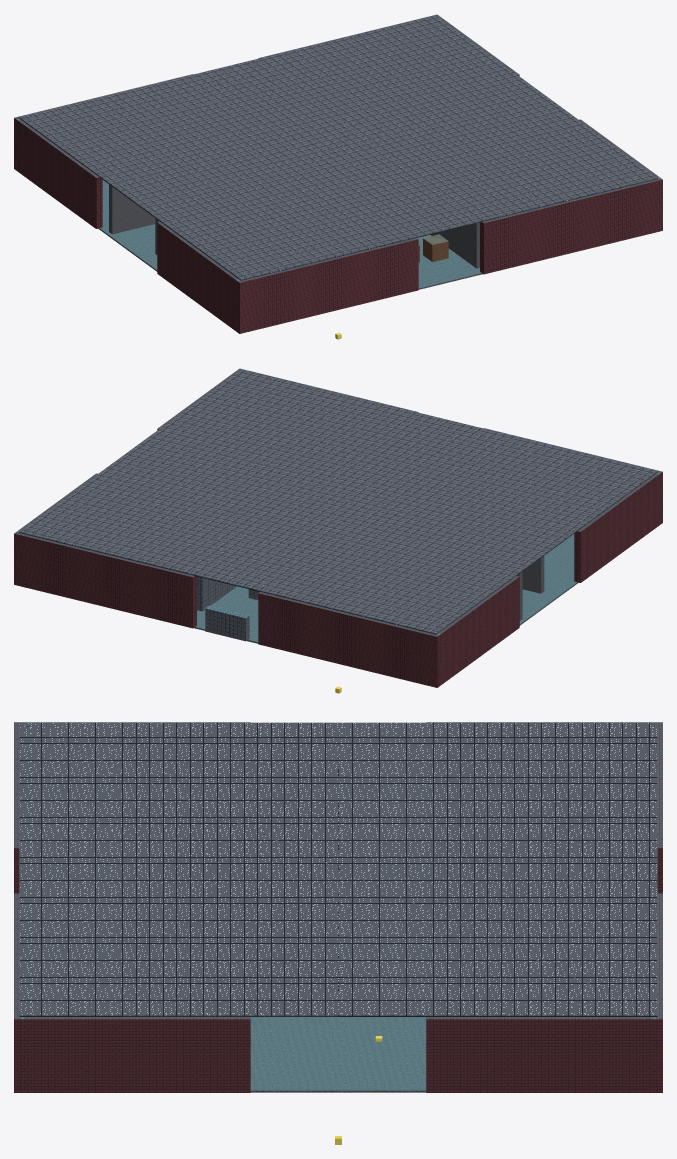
Rendered from dungeon.glb.
3 renders of one model, top to bottom at view 1: azimuth 30°, elevation 25°; view 2: azimuth 150°, elevation 25°; view 3: azimuth 270°, elevation 25°, orthographic. The views are drawn at different scales.
Parts seen in each view (by area): view 1: ART_dungeon_ceiling, ART_dungeon_north_wall_a, ART_dungeon_north_wall_b, ART_dungeon_west_wall_b, ART_dungeon_west_wall_a, ART_dungeon_floor, WALKABLE_dungeon_floor, ART_dungeon_office_divider_short, ART_dungeon_corridor_wall_west, ART_dungeon_crate_0_9_8_8; view 2: ART_dungeon_ceiling, ART_dungeon_south_wall_a, ART_dungeon_south_wall_b, ART_dungeon_west_wall_a, ART_dungeon_west_wall_b, ART_dungeon_floor, WALKABLE_dungeon_floor, ART_dungeon_loading_bay_lip, ART_dungeon_storage_left_return, ART_dungeon_office_divider_north; view 3: ART_dungeon_ceiling, ART_dungeon_east_wall_b, ART_dungeon_east_wall_a, ART_dungeon_floor, WALKABLE_dungeon_floor, ART_dungeon_north_wall_b, ART_dungeon_south_wall_b, ART_dungeon_north_wall_a, ART_dungeon_south_wall_a, WALKABLE_dungeon_south_wall_b, WALKABLE_dungeon_north_wall_b, WALKABLE_dungeon_north_wall_a (+1 smaller).
Part boxes in pixels (<box>): ART_dungeon_ceiling: <box>19,15,657,280</box>; ART_dungeon_north_wall_a: <box>236,238,418,333</box>; ART_dungeon_north_wall_b: <box>480,178,662,274</box>; ART_dungeon_west_wall_b: <box>16,120,102,228</box>; ART_dungeon_west_wall_a: <box>157,222,238,330</box>; ART_dungeon_floor: <box>98,180,482,289</box>; WALKABLE_dungeon_floor: <box>100,180,480,287</box>; ART_dungeon_office_divider_short: <box>109,184,155,234</box>; ART_dungeon_corridor_wall_west: <box>430,222,479,268</box>; ART_dungeon_crate_0_9_8_8: <box>423,234,448,262</box>; ART_dungeon_ceiling: <box>19,369,657,634</box>; ART_dungeon_south_wall_a: <box>258,592,440,687</box>; ART_dungeon_south_wall_b: <box>14,532,196,628</box>; ART_dungeon_west_wall_a: <box>574,474,659,582</box>; ART_dungeon_west_wall_b: <box>437,576,519,684</box>; ART_dungeon_floor: <box>194,534,578,643</box>; WALKABLE_dungeon_floor: <box>196,534,576,641</box>; ART_dungeon_loading_bay_lip: <box>205,605,249,641</box>; ART_dungeon_storage_left_return: <box>197,576,236,611</box>; ART_dungeon_office_divider_north: <box>522,556,544,593</box>; ART_dungeon_ceiling: <box>19,722,657,1016</box>; ART_dungeon_east_wall_b: <box>426,1017,656,1092</box>; ART_dungeon_east_wall_a: <box>20,1017,250,1092</box>; ART_dungeon_floor: <box>250,1017,426,1092</box>; WALKABLE_dungeon_floor: <box>251,1017,425,1090</box>; ART_dungeon_north_wall_b: <box>14,893,24,1092</box>; ART_dungeon_south_wall_b: <box>652,893,662,1092</box>; ART_dungeon_north_wall_a: <box>14,722,23,893</box>; ART_dungeon_south_wall_a: <box>656,722,662,893</box>; WALKABLE_dungeon_south_wall_b: <box>652,893,662,1018</box>; WALKABLE_dungeon_north_wall_b: <box>14,893,23,1018</box>; WALKABLE_dungeon_north_wall_a: <box>14,722,23,847</box>.
Size of what is drawn, in the model's own units: 26 by 11.2 by 24.
Materials: 13 (10 with a texture image).
